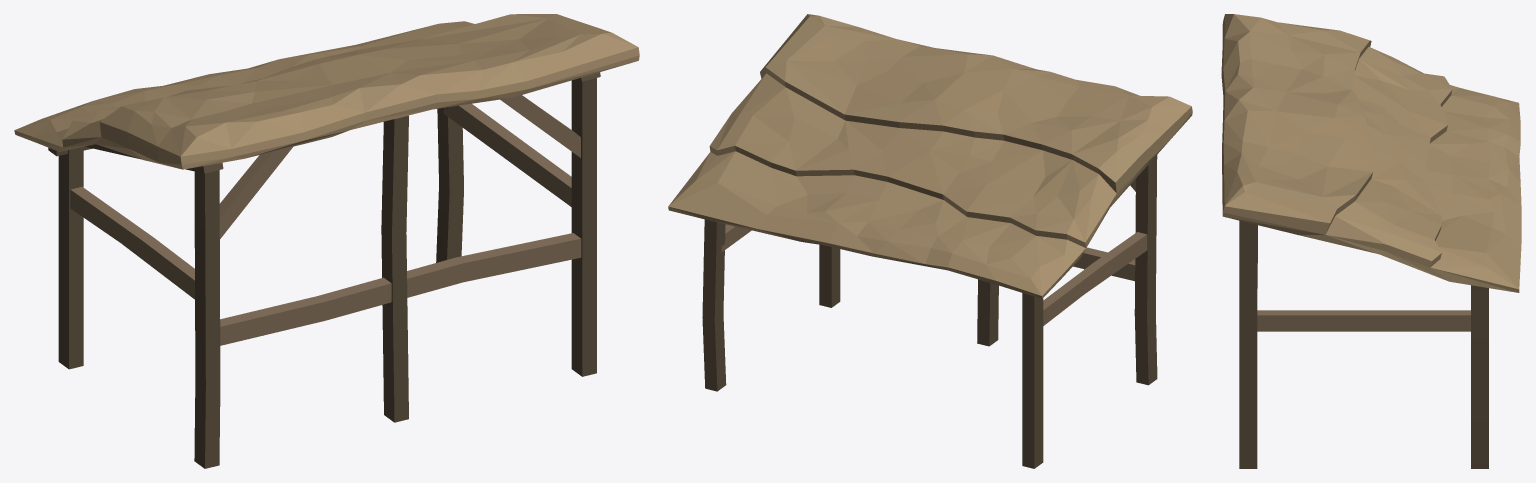
The model's file is stable_a.FBX.
The picture shows the model from 3 angles, left to right: view 1: azimuth 30°, elevation 25°; view 2: azimuth 150°, elevation 25°; view 3: azimuth 270°, elevation 25°; orthographic projection. The views are drawn at different scales.
Visible parts, largest first — view 1: stable_a; view 2: stable_a; view 3: stable_a.
Part boxes in pixels (left/top/right/bottom): stable_a: left=14, top=14, right=639, bottom=468; stable_a: left=668, top=14, right=1192, bottom=468; stable_a: left=1221, top=14, right=1521, bottom=468.
Bounding box in the file's own units: 6.29 × 4.43 × 4.19.
